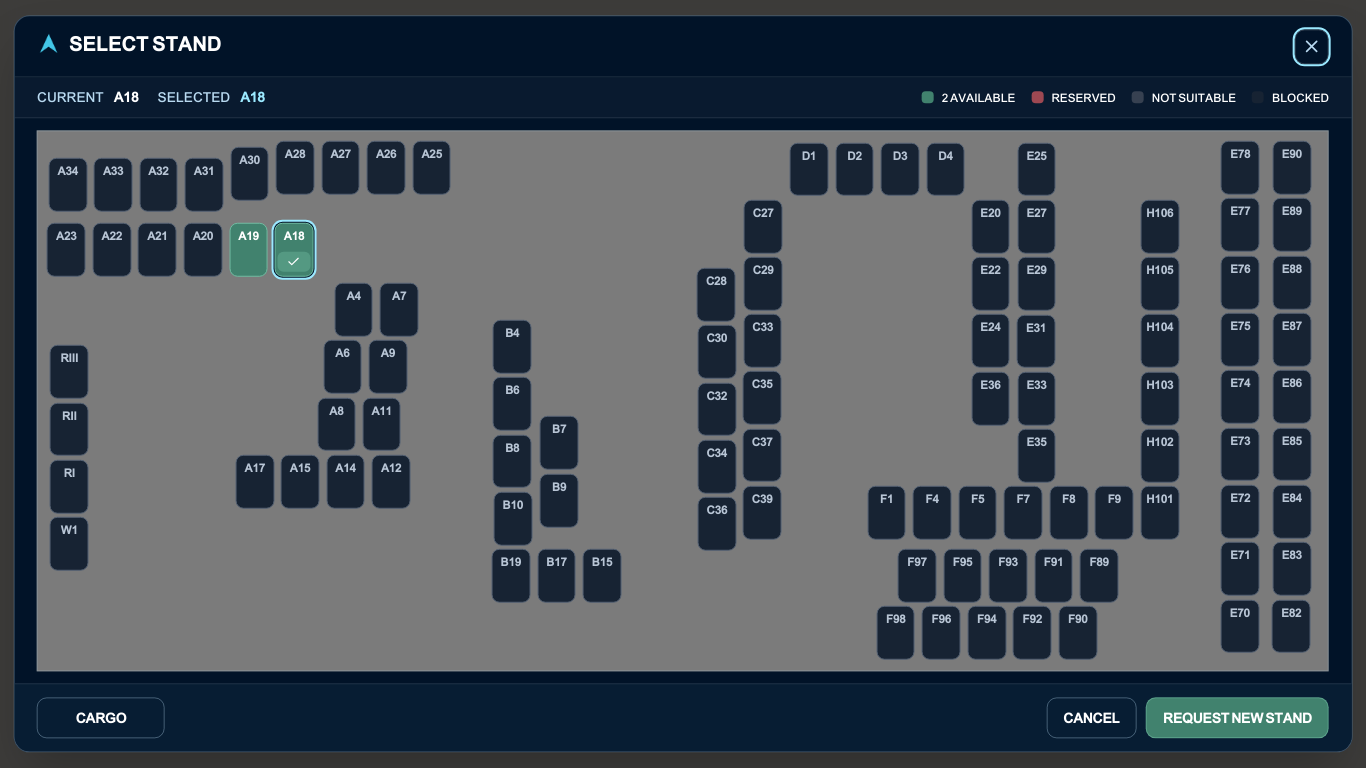
EFB operational dialogs › restores the previous selection and its map after warning cancel
This screenshot has width=1366, height=768.
Click the button named "Stand A19" at (248, 250), box [229,223,268,276]
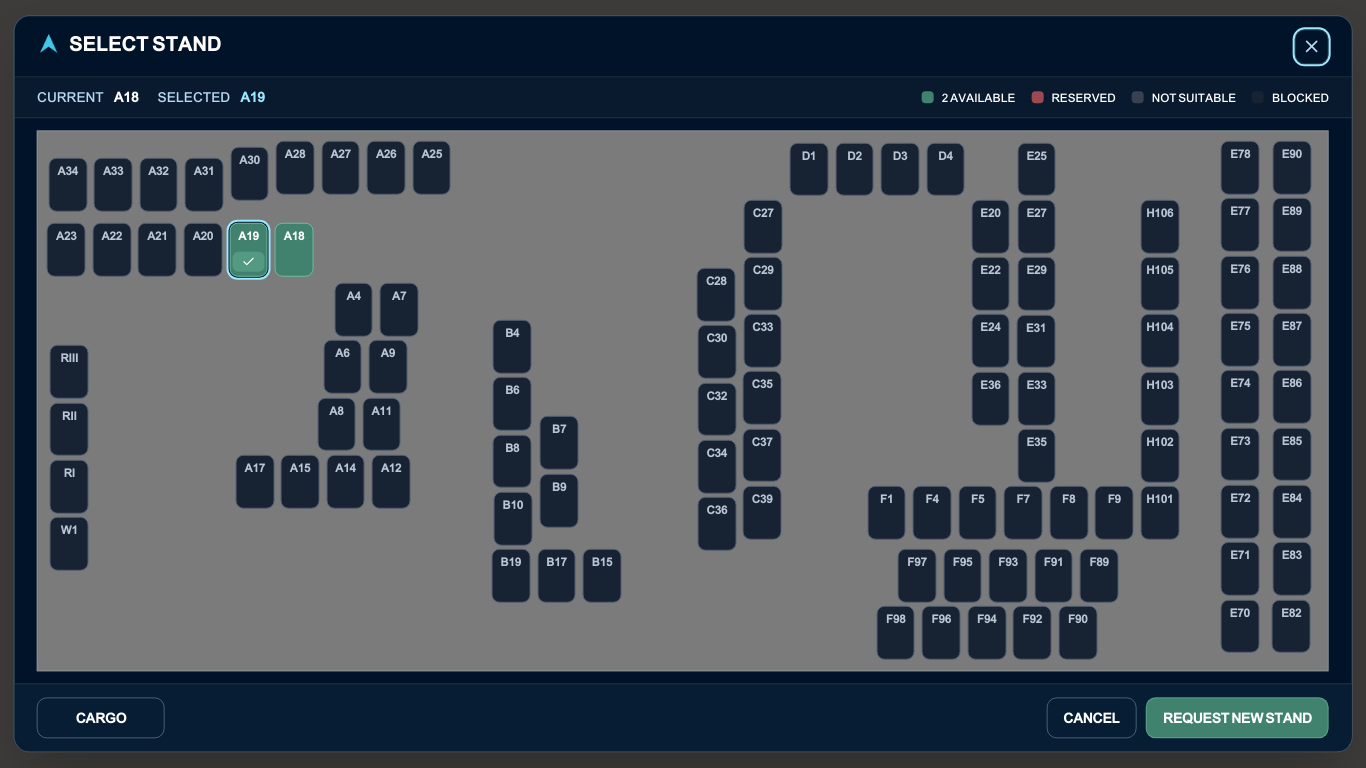
Click the button "CARGO" at (101, 718), box [37,698,165,739]
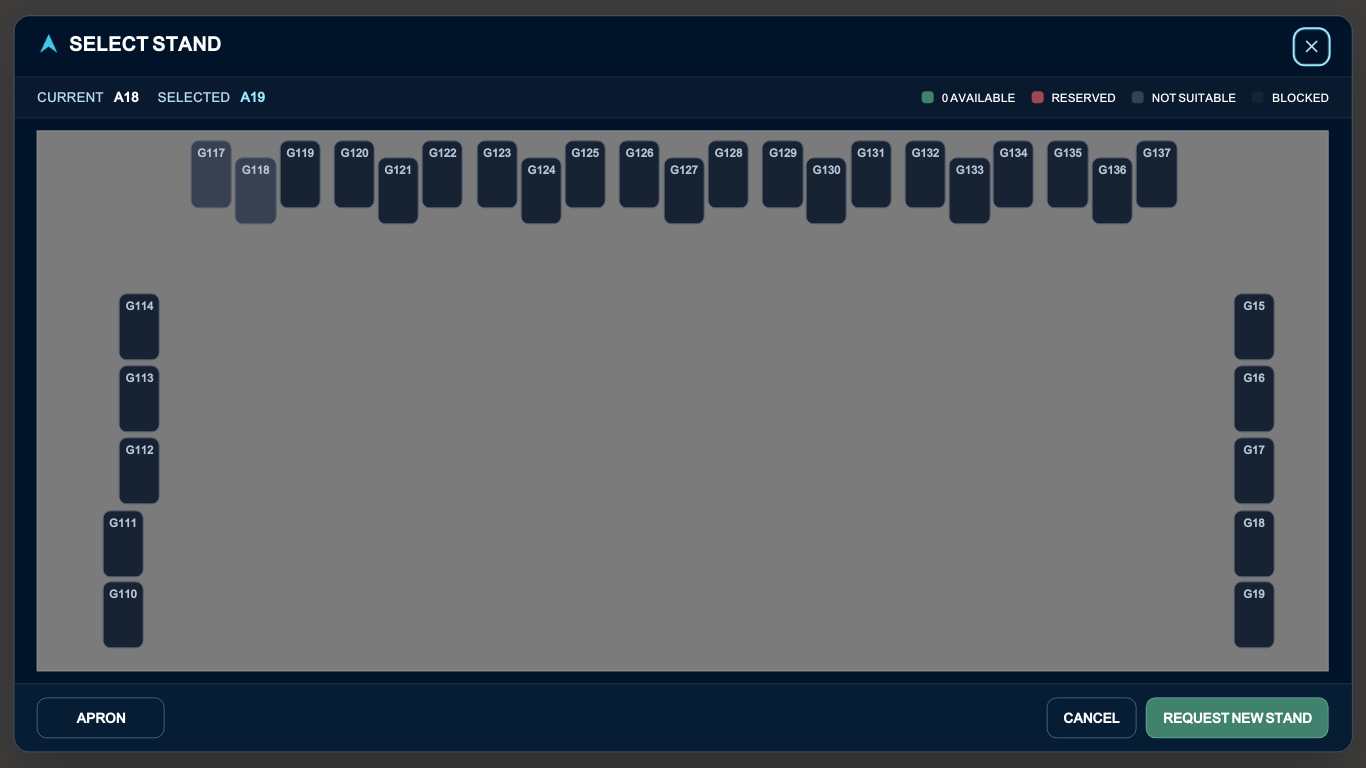
Click the button named "Stand G117" at (211, 174), box [190,141,232,208]
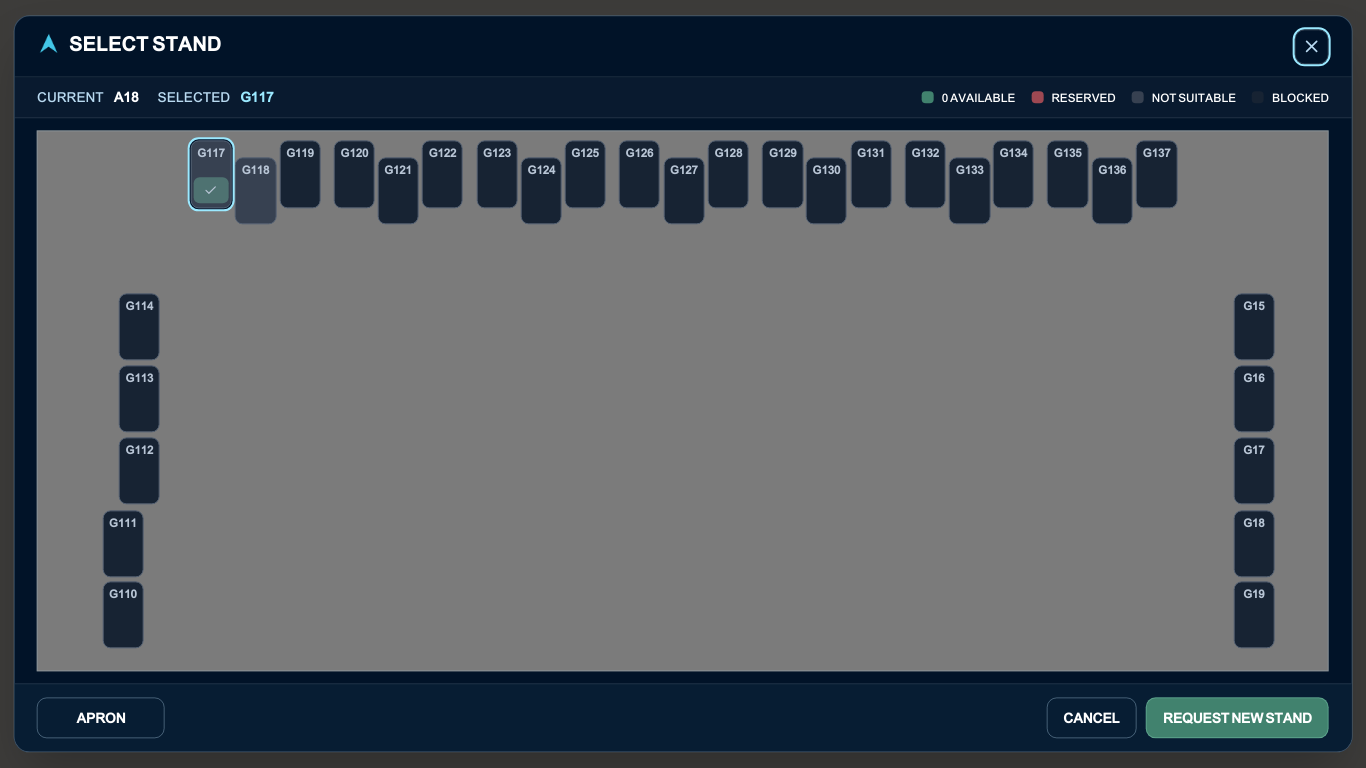
Click the button named "Stand G118" at (256, 191), box [235,158,276,225]
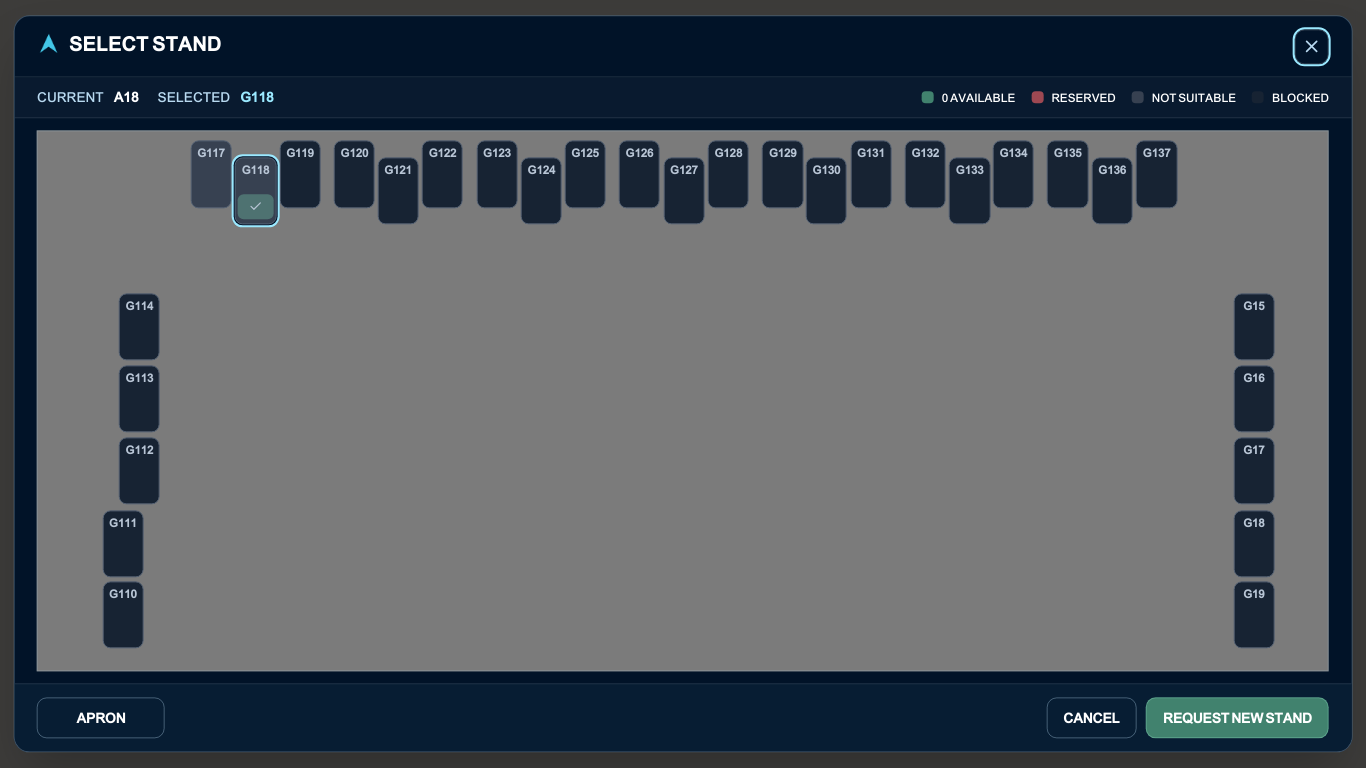
Click the button "REQUEST NEW STAND" at (1238, 718), box [1146,698,1329,739]
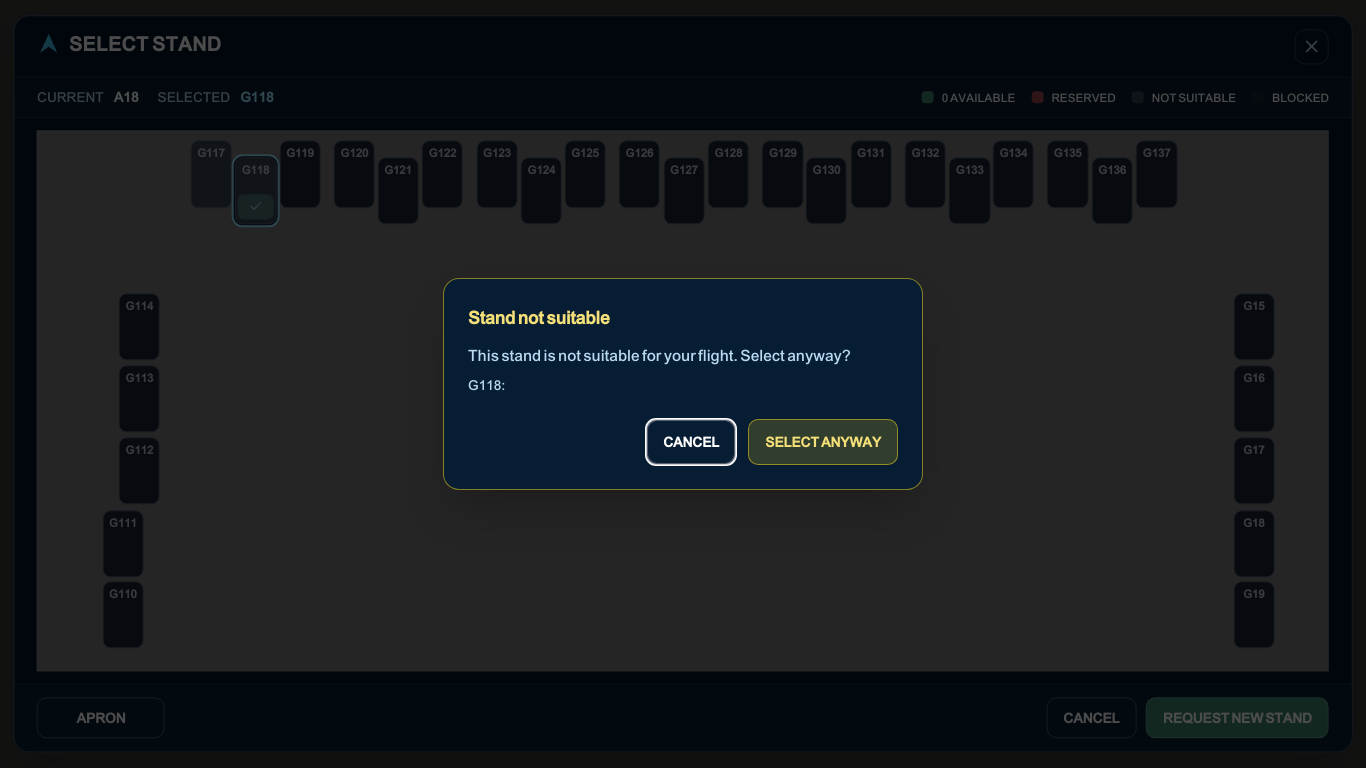
Click the button "CANCEL" at (691, 442), box [646,419,736,465]
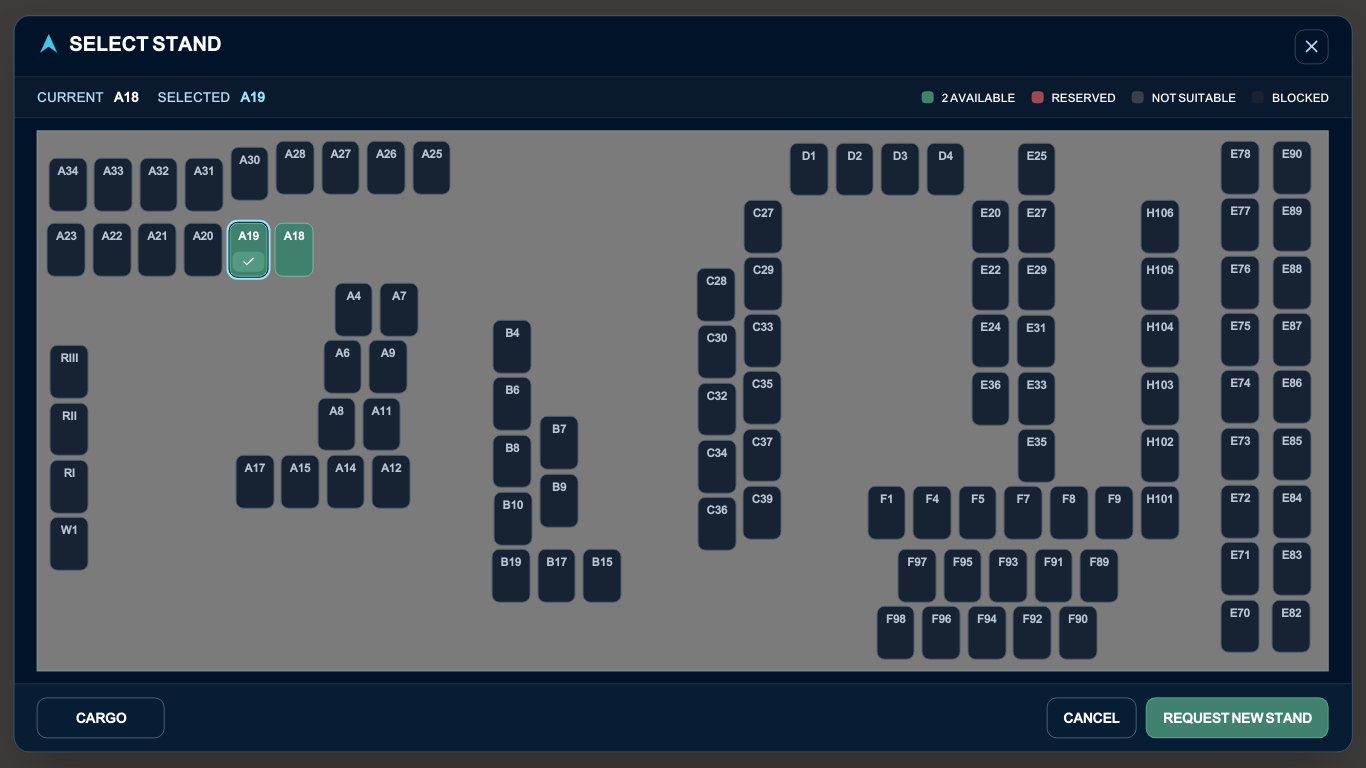
Expected: the heading "Stand not suitable" is gone
Expected: the element named "Airport stand map" is shown
Expected: the text "SELECTED A19" is shown, [158,87,265,107]
